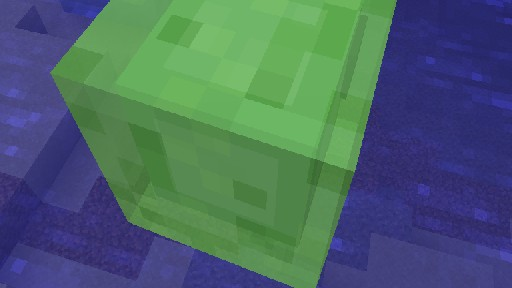slime: (49, 0, 407, 288)
